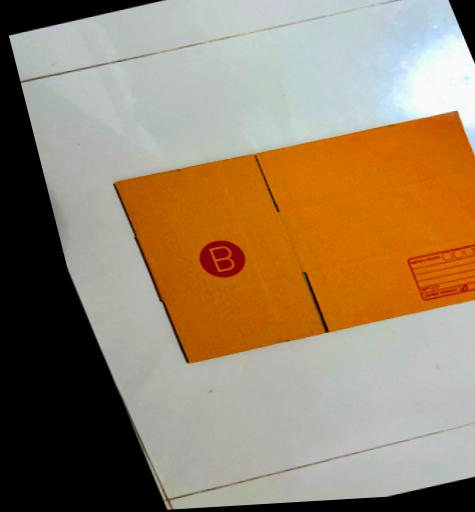box: (97, 106, 475, 369)
class0: (401, 238, 475, 302), (190, 234, 252, 284)
